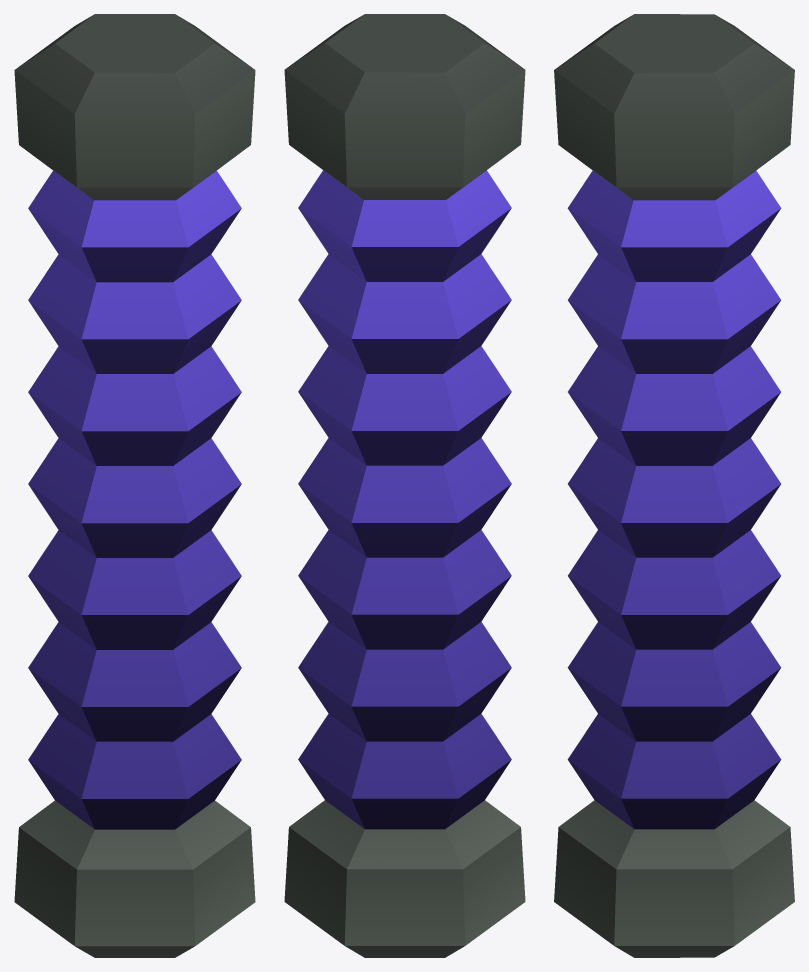
Rendered from short-handle_009.fbx.
3 views of the same model, side by side, from view 1: azimuth 30°, elevation 25°; view 2: azimuth 150°, elevation 25°; view 3: azimuth 270°, elevation 25° (orthographic).
Visible parts, largest first — view 1: short-handle.009; view 2: short-handle.009; view 3: short-handle.009.
Part boxes in pixels (left/top/right/bottom): short-handle.009: left=14, top=14, right=255, bottom=957; short-handle.009: left=284, top=14, right=525, bottom=957; short-handle.009: left=554, top=14, right=794, bottom=957.
Bounding box in the file's own units: 6.45 × 30.2 × 7.45.
